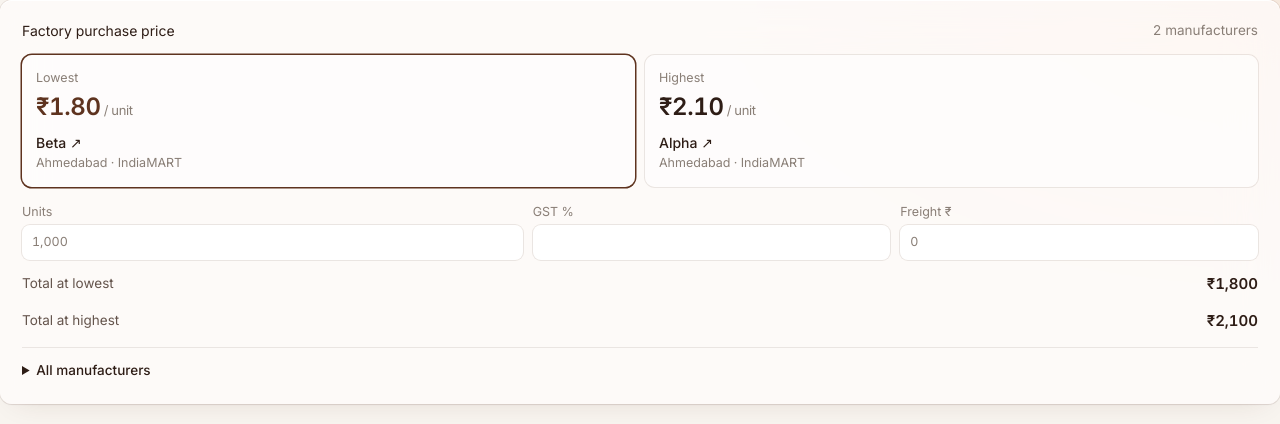
PurchaseCard › recomputes totals and switches the lowest offer at a tier threshold
The width and height of the screenshot is (1280, 424).
Expected: the link "Lowest ₹1.80 / unit Beta ↗ Ahmedabad · IndiaMART" is shown, [22, 55, 635, 186]
Expected: the text "₹1,800" is shown, [1207, 273, 1258, 296]
Step 1. Replace the text in the field labelled "Units" with "5,000" → (272, 243), box [22, 225, 523, 260]
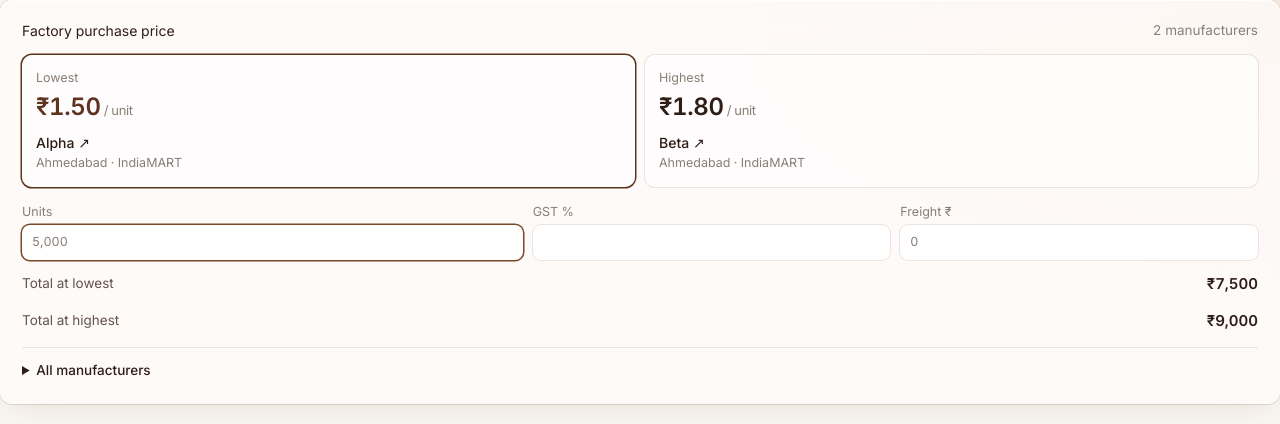
Expected: the link "Lowest ₹1.50 / unit Alpha ↗ Ahmedabad · IndiaMART" is shown, [22, 55, 635, 186]
Expected: the text "₹7,500" is shown, [1207, 273, 1258, 296]
